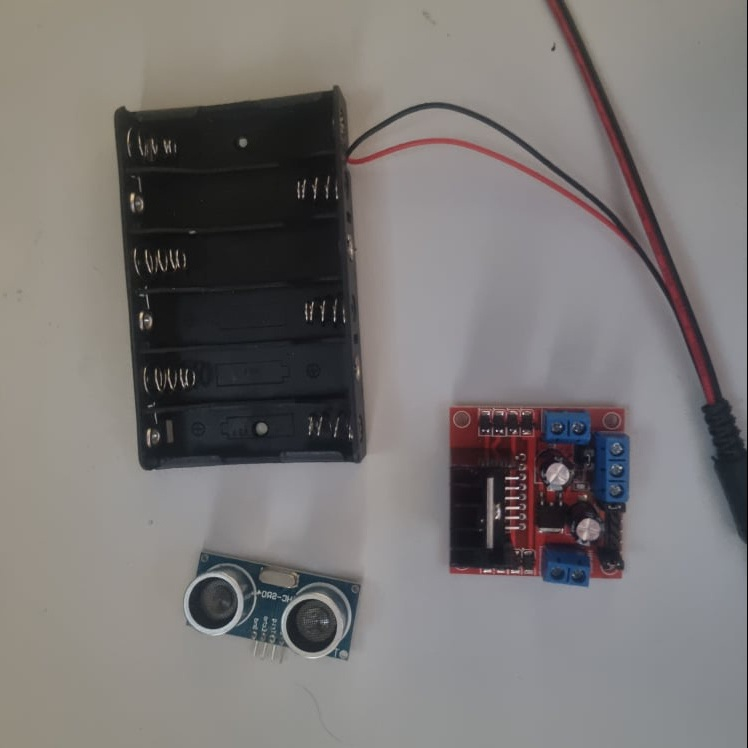BATTERY BOX: (111, 83, 366, 473)
MOTOR: (449, 404, 630, 587)
SENSOR: (179, 550, 364, 666)
